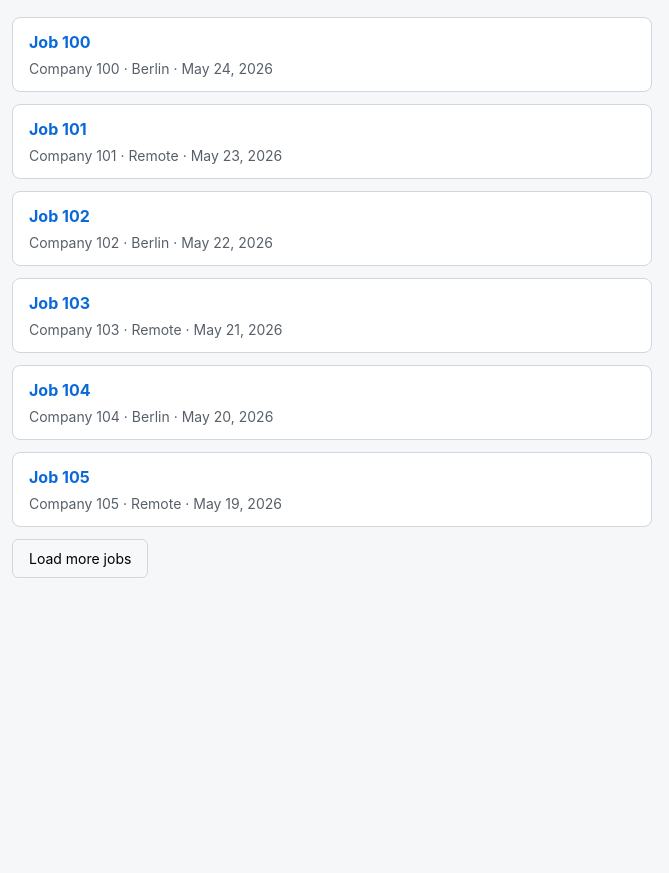
Test case: keeps loaded jobs when a later page fails, and Retry loads that page once
Expected: the link "Job 105" is shown, [29, 466, 90, 486]
Click the button "Load more jobs": {"x": 80, "y": 558} [12, 538, 148, 578]
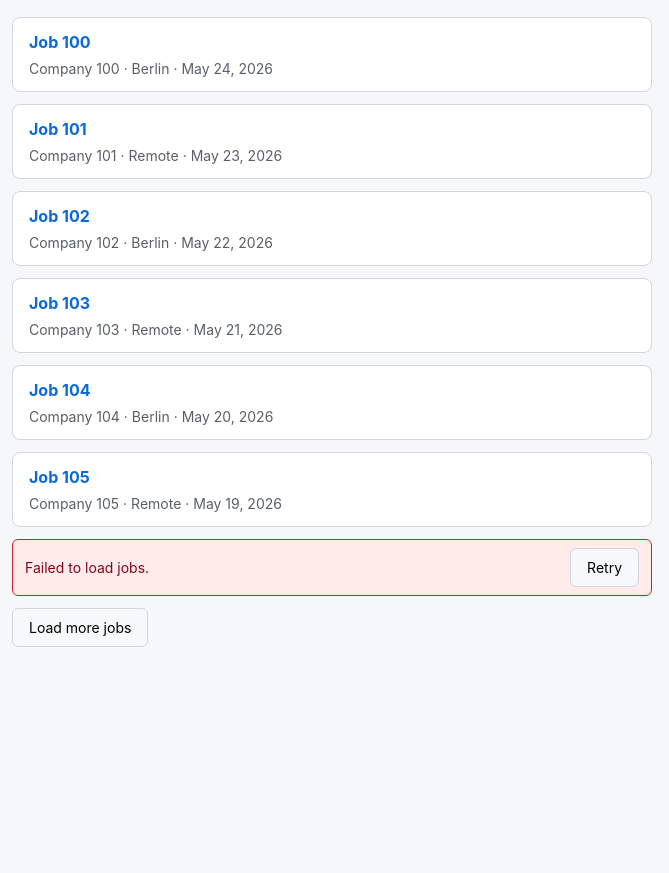
Expected: the number of links is 6, [29, 32, 90, 52]; [29, 118, 87, 138]; [29, 206, 90, 226]; [29, 292, 90, 312]; [29, 380, 90, 400]; [29, 466, 90, 486]
Now the message shows "Failed to load jobs.", box [25, 558, 149, 576]
Click the button "Retry": {"x": 605, "y": 567} [570, 548, 639, 586]
(page scrolled)
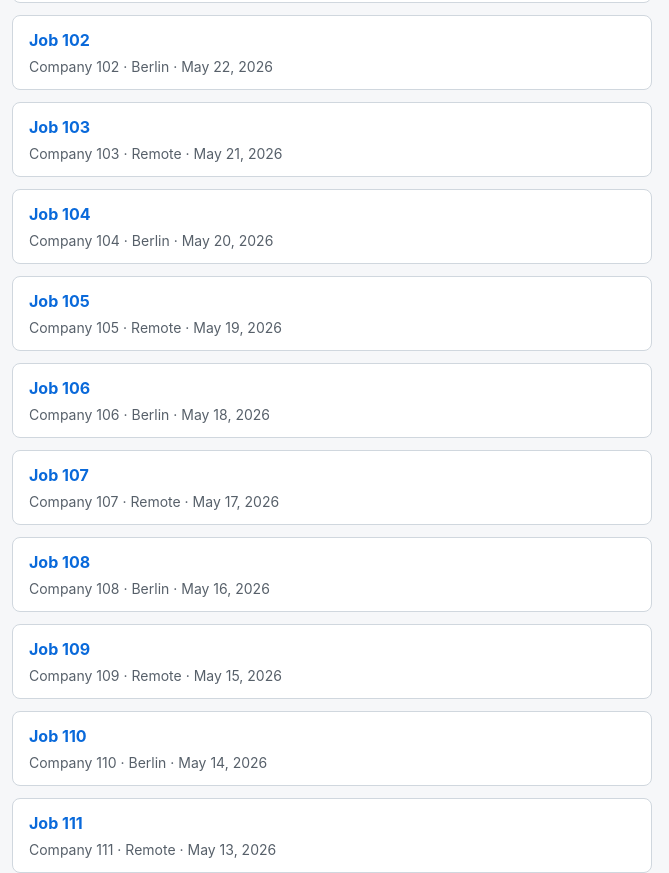
Now the link "Job 111" is shown, box [29, 812, 83, 832]
Now the message "Failed to load jobs. Retry" is gone
